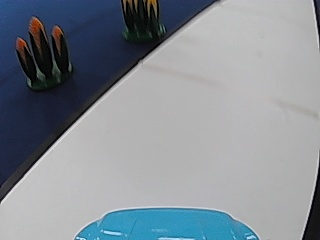corn: (15, 14, 74, 90), (120, 0, 165, 42)
